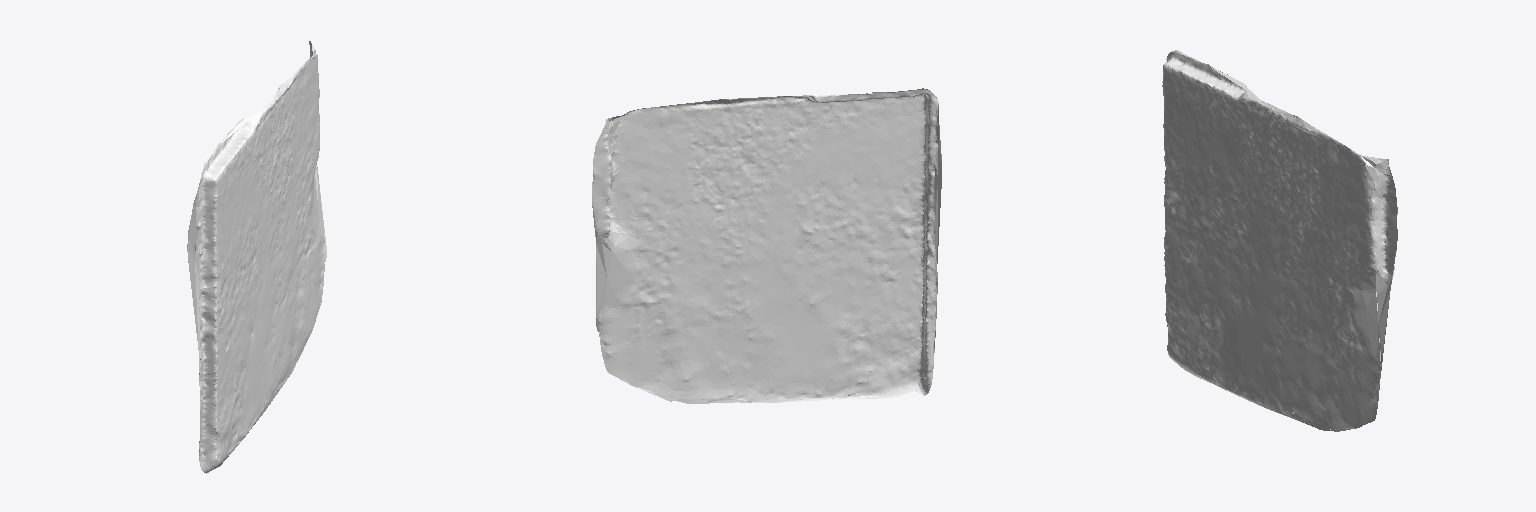
File: cuadro_casa.obj
3 renders of one model, left to right at view 1: azimuth 30°, elevation 25°; view 2: azimuth 150°, elevation 25°; view 3: azimuth 270°, elevation 25°, orthographic.
Visible parts, largest first — view 1: mesh; view 2: mesh; view 3: mesh.
Boxes of the visible parts, box(x1,y1,x2,y2) form: mesh: box(187, 41, 326, 473); mesh: box(592, 88, 941, 403); mesh: box(1162, 50, 1397, 431).
Bounding box in the file's own units: 0.622 × 0.7631 × 0.5224.